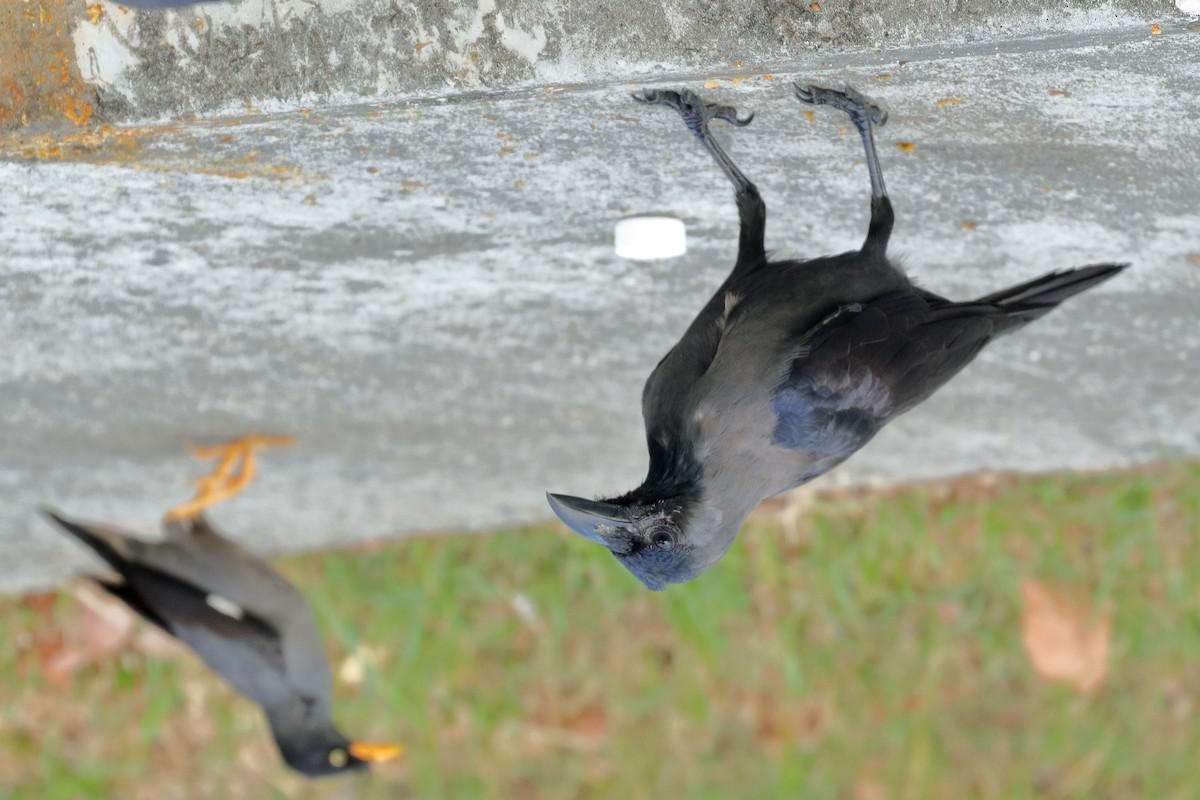crow: (530, 90, 1105, 631)
